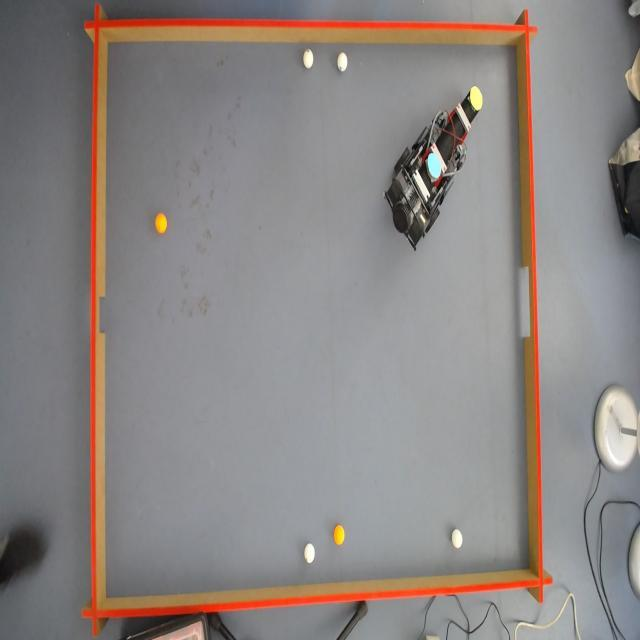orange: (155, 214, 169, 236), (332, 528, 345, 546)
robot: (385, 80, 473, 251)
robot-front: (470, 86, 482, 110)
robot-rear: (428, 153, 441, 178)
white: (304, 543, 317, 564), (452, 530, 464, 552), (302, 49, 314, 69), (338, 52, 348, 71)
